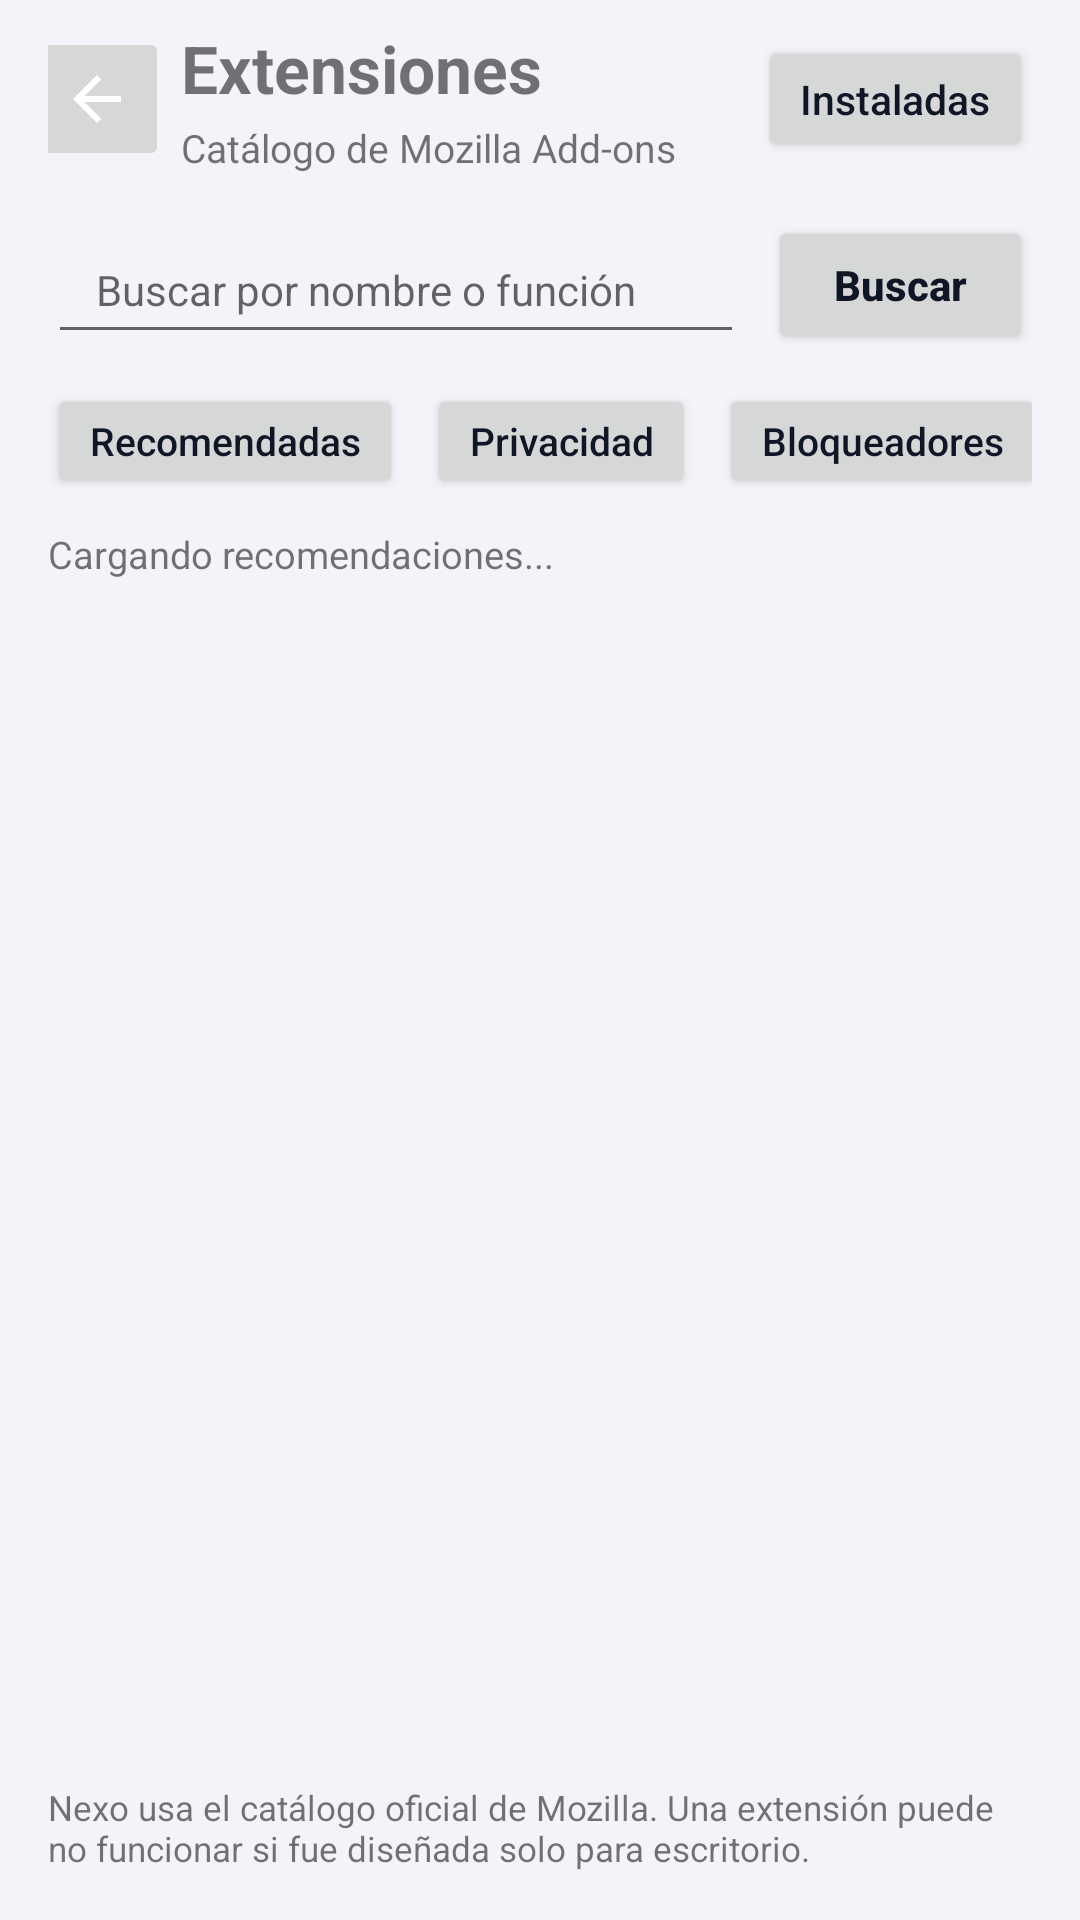

Icon bounding boxes for this 1080px×1920px phone screenshot, format bbox(x1, y1, x2, y2):
Volver: bbox(48, 45, 157, 153)
